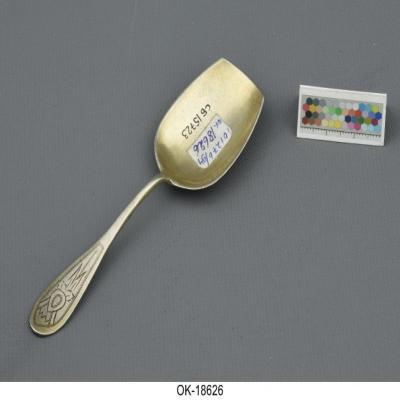dpi: (29, 59, 264, 338)
